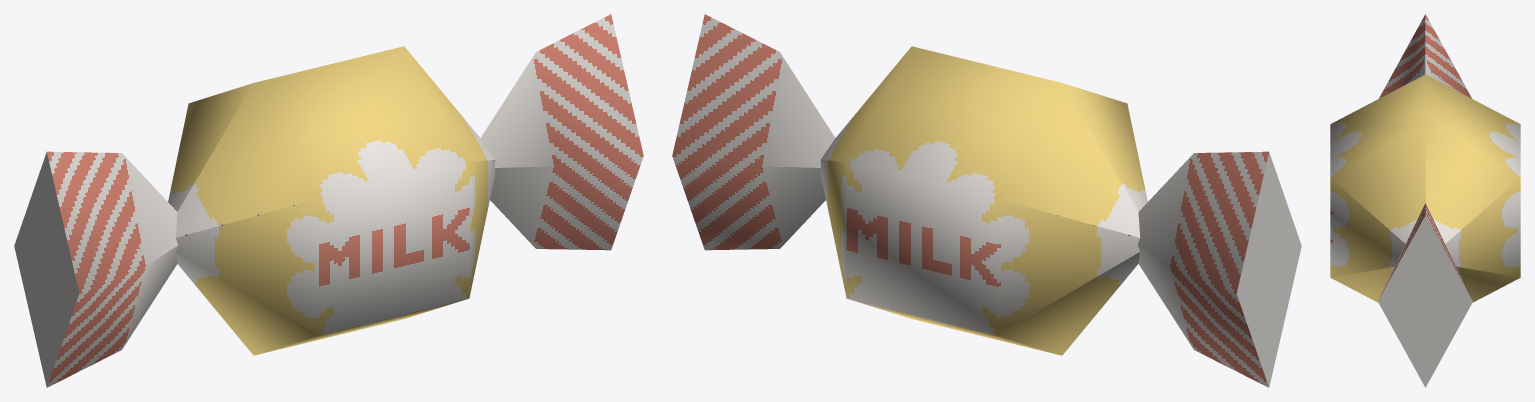
File: 04e4_Milk_Candy.glb
3 views of the same model, side by side, from view 1: azimuth 30°, elevation 25°; view 2: azimuth 150°, elevation 25°; view 3: azimuth 270°, elevation 25° (orthographic). The views are drawn at different scales.
Visible parts, largest first — view 1: part_0; view 2: part_0; view 3: part_0.
Boxes of the visible parts, left/top/right/bottom form: part_0: left=14, top=14, right=643, bottom=387; part_0: left=672, top=14, right=1301, bottom=387; part_0: left=1330, top=14, right=1520, bottom=387.
Bounding box in the file's own units: 0.045 × 0.0208 × 0.018.
1 material, 1 textured.
